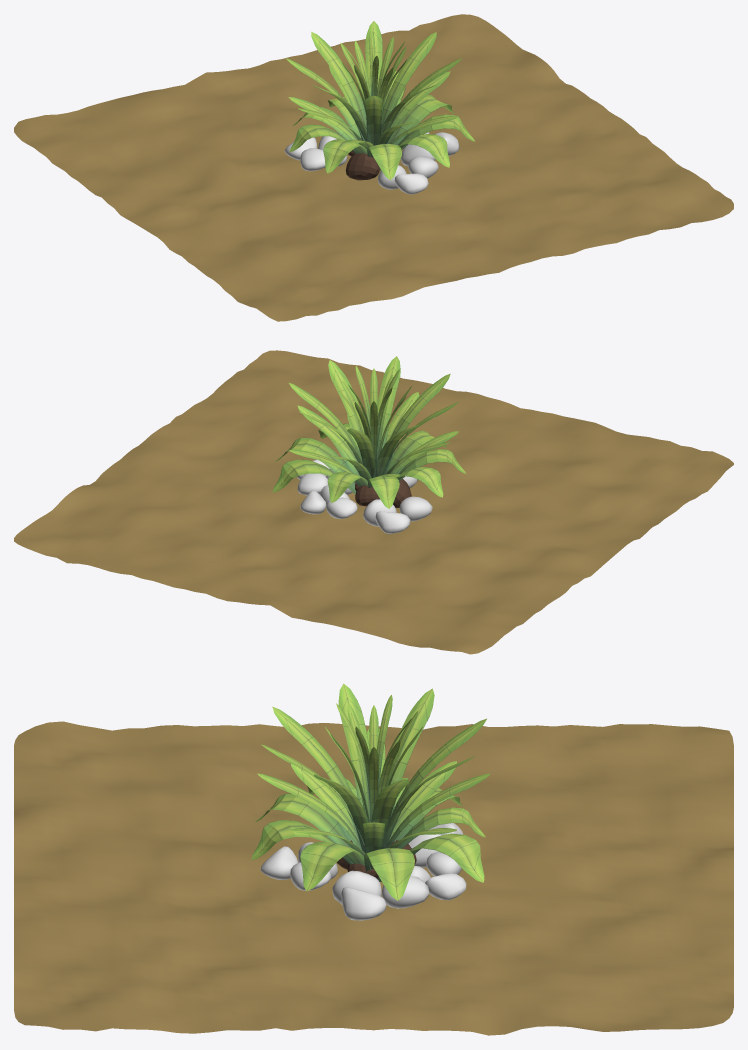
File: Low Poly Grass.fbx
The picture shows the model from 3 angles, top to bottom: view 1: azimuth 30°, elevation 25°; view 2: azimuth 150°, elevation 25°; view 3: azimuth 270°, elevation 25°; orthographic projection. The views are drawn at different scales.
Visible parts, largest first — view 1: Plane.007, Plane.006, Plane.005, Cube, Plane.002, Leaf, Plane, Plane.004, Plane.001, Plane.003; view 2: Plane.007, Plane.006, Cube, Plane.005, Plane.002, Leaf, Plane, Plane.004, Plane.001, Plane.003; view 3: Plane.007, Plane.006, Cube, Plane.002, Plane.005, Leaf, Plane, Plane.004, Plane.003, Plane.001.
Part boxes in pixels (<box>): Plane.007: <box>14,14,733,321</box>; Plane.006: <box>289,87,475,179</box>; Plane.005: <box>311,32,436,142</box>; Cube: <box>284,132,459,194</box>; Plane.002: <box>285,21,462,145</box>; Leaf: <box>288,70,459,180</box>; Plane: <box>298,65,450,145</box>; Plane.004: <box>340,37,407,114</box>; Plane.001: <box>341,40,406,114</box>; Plane.003: <box>343,29,404,96</box>; Plane.007: <box>14,350,733,654</box>; Plane.006: <box>272,423,466,508</box>; Cube: <box>297,459,432,533</box>; Plane.005: <box>289,356,458,478</box>; Plane.002: <box>298,360,450,477</box>; Leaf: <box>289,414,458,507</box>; Plane: <box>297,392,450,480</box>; Plane.004: <box>336,368,411,463</box>; Plane.001: <box>341,374,405,461</box>; Plane.003: <box>348,366,399,447</box>; Plane.007: <box>14,721,733,1035</box>; Plane.006: <box>251,778,485,900</box>; Cube: <box>260,823,466,920</box>; Plane.002: <box>272,688,474,852</box>; Plane.005: <box>261,683,486,848</box>; Leaf: <box>291,761,456,878</box>; Plane: <box>257,729,490,853</box>; Plane.004: <box>329,703,418,822</box>; Plane.003: <box>336,695,411,804</box>; Plane.001: <box>325,705,422,822</box>.
Size of the model in its own units: 1074 by 289 by 1074.
Materials: 6 (4 with a texture image).
